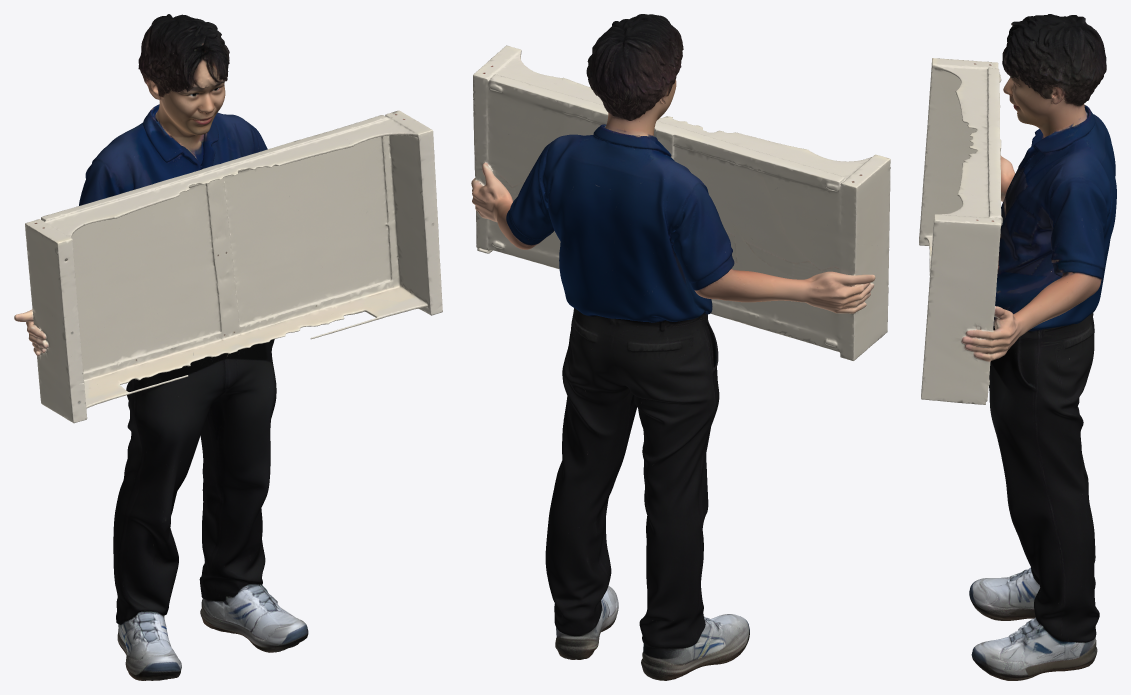
The picture shows the model from 3 angles, left to right: view 1: azimuth 30°, elevation 25°; view 2: azimuth 150°, elevation 25°; view 3: azimuth 270°, elevation 25°; orthographic projection. The views are drawn at different scales.
Visible parts, largest first — view 1: Mesh_0.001; view 2: Mesh_0.001; view 3: Mesh_0.001.
Part boxes in pixels (<box>): Mesh_0.001: <box>14,14,442,680</box>; Mesh_0.001: <box>471,14,890,680</box>; Mesh_0.001: <box>919,14,1116,680</box>.
Bounding box in the file's own units: 3.97 × 6 × 1.72.
1 material, 1 textured.
